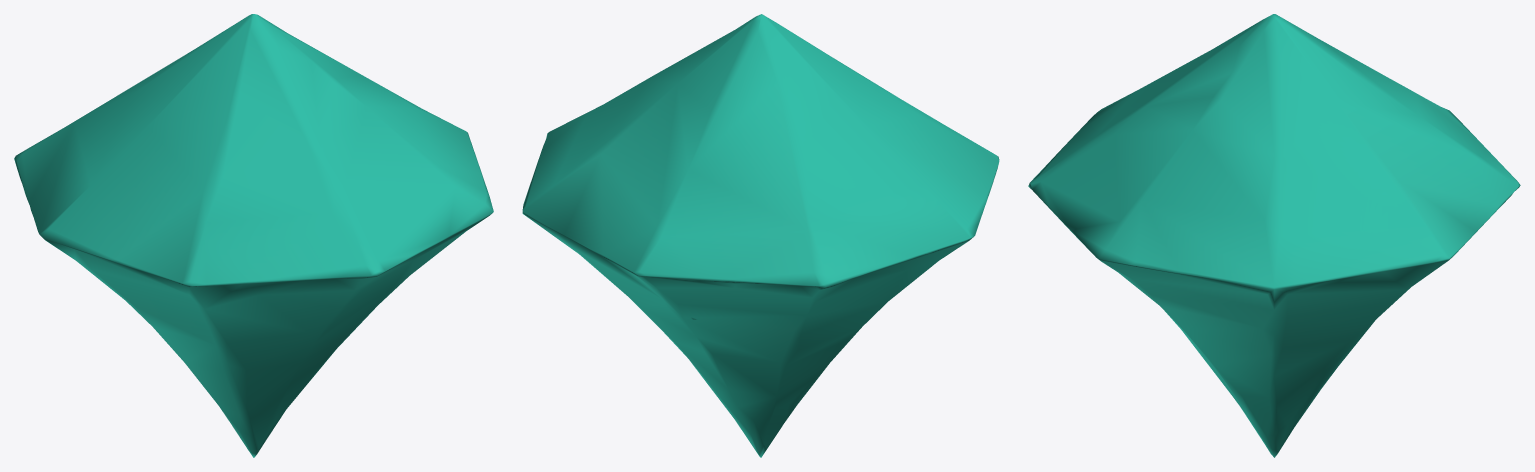
File: gen3d-diamond-kite-lod1.glb
3 renders of one model, left to right at view 1: azimuth 30°, elevation 25°; view 2: azimuth 150°, elevation 25°; view 3: azimuth 270°, elevation 25°, orthographic.
Parts seen in each view (by area): view 1: part_0; view 2: part_0; view 3: part_0.
Part boxes in pixels (<box>): part_0: <box>14,14,493,457</box>; part_0: <box>522,14,999,457</box>; part_0: <box>1028,14,1520,457</box>.
Size of the model in its own units: 1 by 1 by 1.01.
